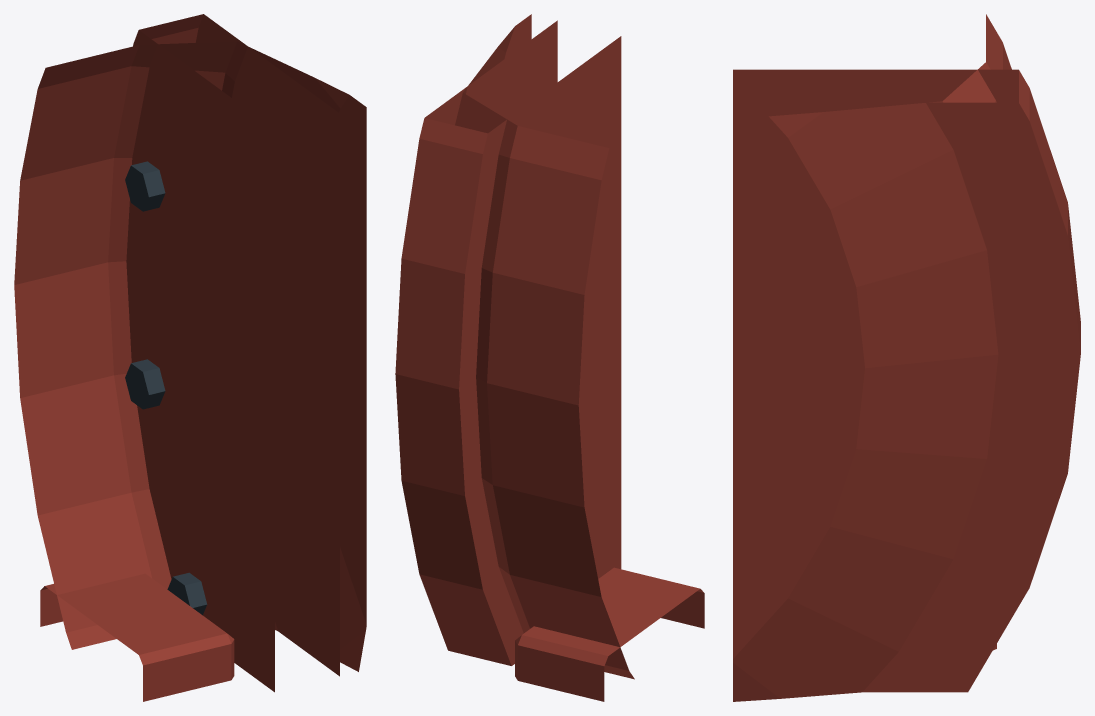
The model's file is cell_30.obj.
The picture shows the model from 3 angles, left to right: view 1: azimuth 30°, elevation 25°; view 2: azimuth 150°, elevation 25°; view 3: azimuth 270°, elevation 25°; orthographic projection. The views are drawn at different scales.
Bounding box in the file's own units: 0.3725 × 1 × 0.5346.
